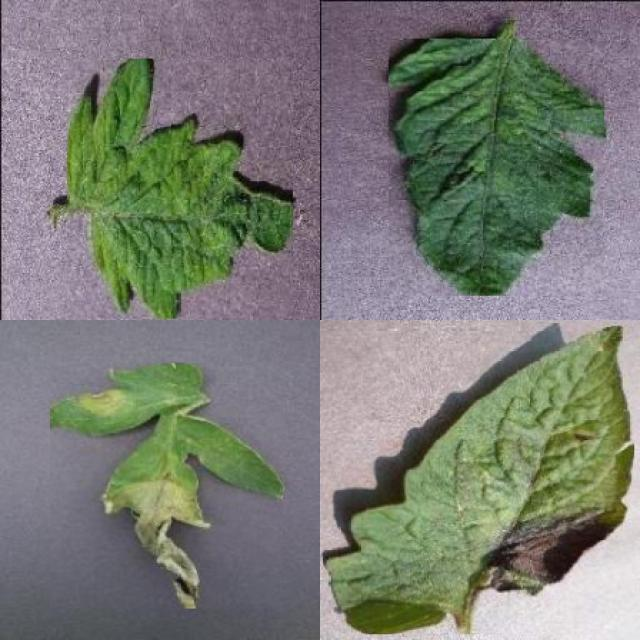Late Blight: (323, 323, 634, 634), (50, 364, 283, 609)
Mosaic Virus: (67, 59, 293, 318), (389, 38, 604, 296)
